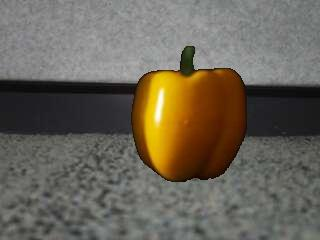Capsicum: (131, 45, 249, 184)
